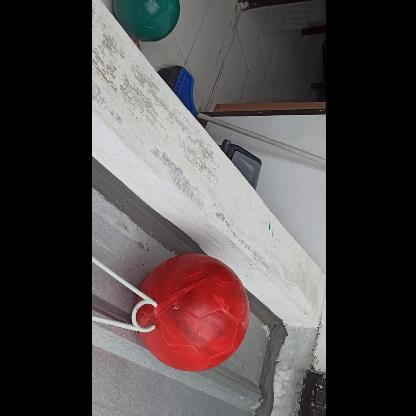red_ball: (135, 255, 251, 371)
